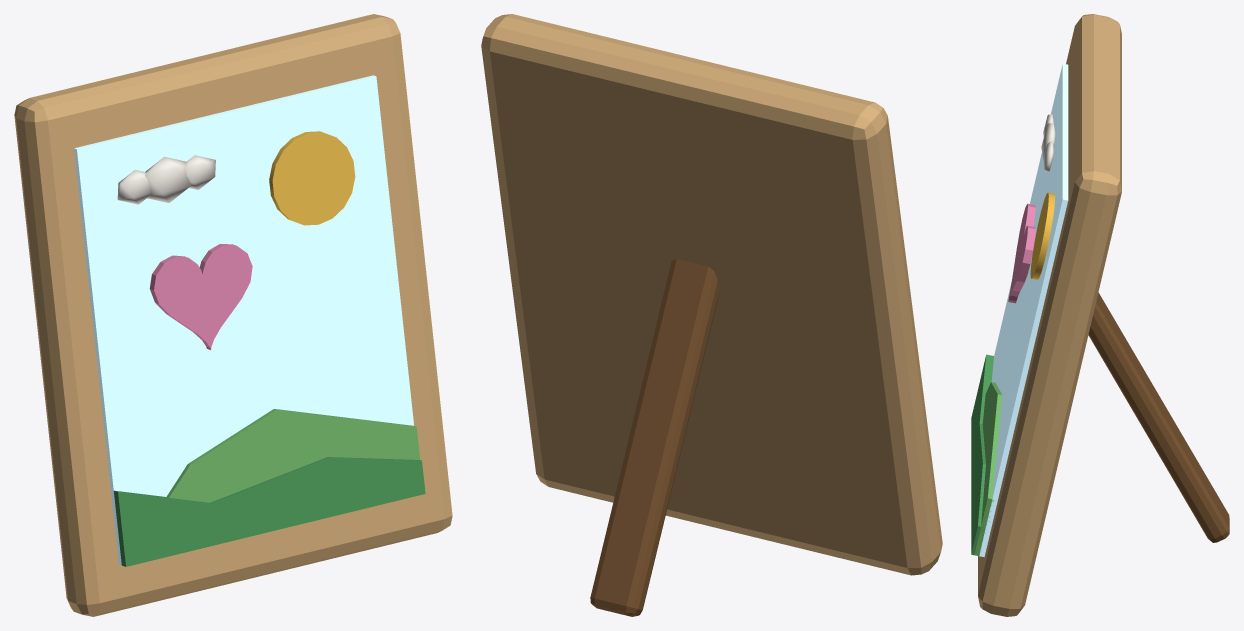
The model's file is porta-retrato.glb.
3 views of the same model, side by side, from view 1: azimuth 30°, elevation 25°; view 2: azimuth 150°, elevation 25°; view 3: azimuth 270°, elevation 25° (orthographic). The views are drawn at different scales.
Visible parts, largest first — view 1: porta-retrato; view 2: porta-retrato; view 3: porta-retrato.
Boxes of the visible parts, <box> form: porta-retrato: <box>14,14,452,616</box>; porta-retrato: <box>481,14,942,616</box>; porta-retrato: <box>971,14,1229,616</box>.
Size of the model in its own units: 0.5 by 0.6106 by 0.3214.
